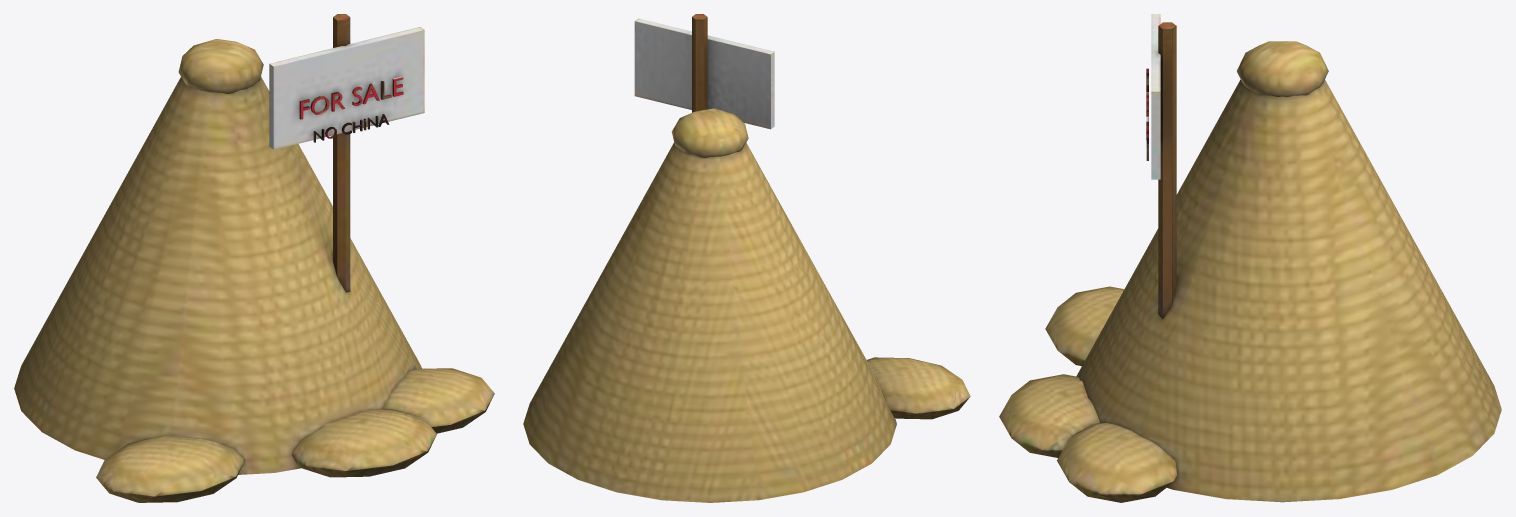
Rendered from monton_soja.glb.
3 renders of one model, left to right at view 1: azimuth 30°, elevation 25°; view 2: azimuth 150°, elevation 25°; view 3: azimuth 270°, elevation 25°, orthographic. The views are drawn at different scales.
Visible parts, largest first — view 1: monton_soja; view 2: monton_soja; view 3: monton_soja.
Part boxes in pixels (x1,y1,x2,y2): monton_soja: (14,14,494,502); monton_soja: (523,14,970,502); monton_soja: (999,14,1501,502).
Bounding box in the file's own units: 2.04 × 2.05 × 2.18.
1 material, 1 textured.
